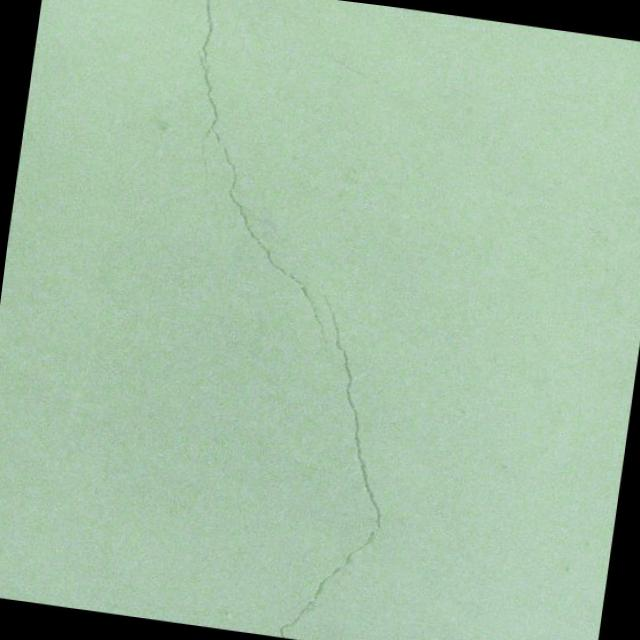crack: (152, 0, 374, 345), (276, 293, 413, 640), (195, 137, 234, 196)
